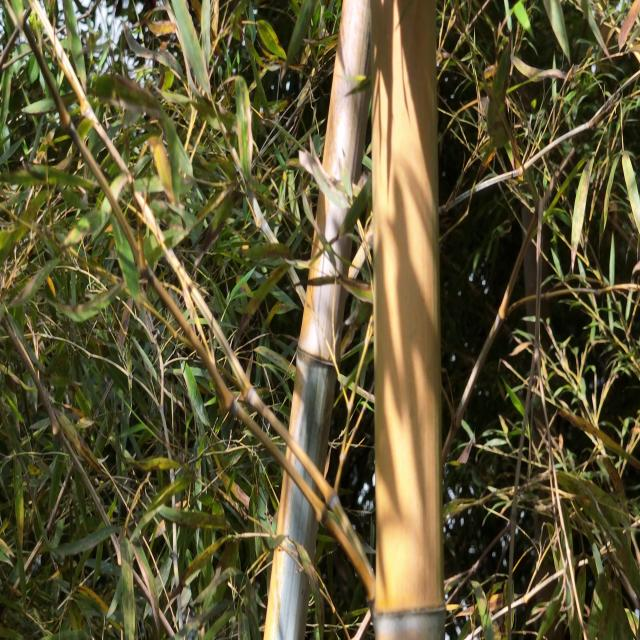Bamboo-shoots: (262, 0, 371, 640)
